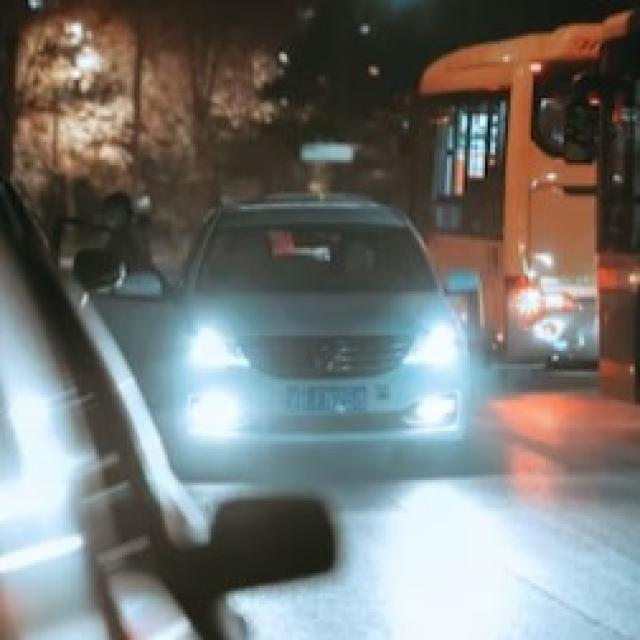bus: (415, 9, 626, 376), (586, 0, 640, 524)
car: (152, 192, 479, 474)
